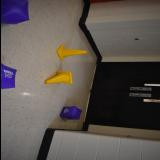cone: (56, 44, 86, 60), (44, 71, 72, 84)
cube: (1, 0, 29, 25), (0, 63, 16, 89), (59, 106, 81, 120)
